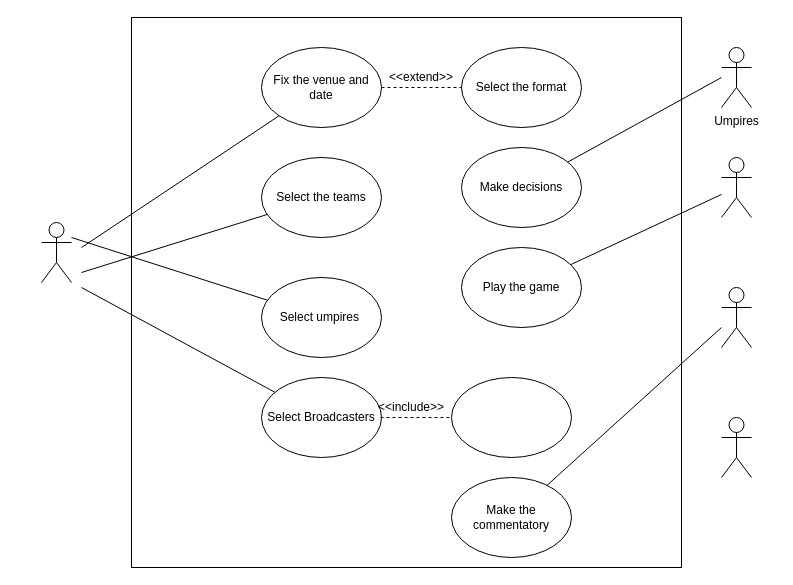
Some shapes in this 793 by 585 pixel diagram are drawn without their labels. The centre of each missing label's shape, as x and y in pixels:
"Coaches" goes at [736,447].
"Commentators" goes at [736,317].
"Cricket Boards" goes at [56,252].
"Players" goes at [736,187].
"Select commentators" goes at [511,417].
